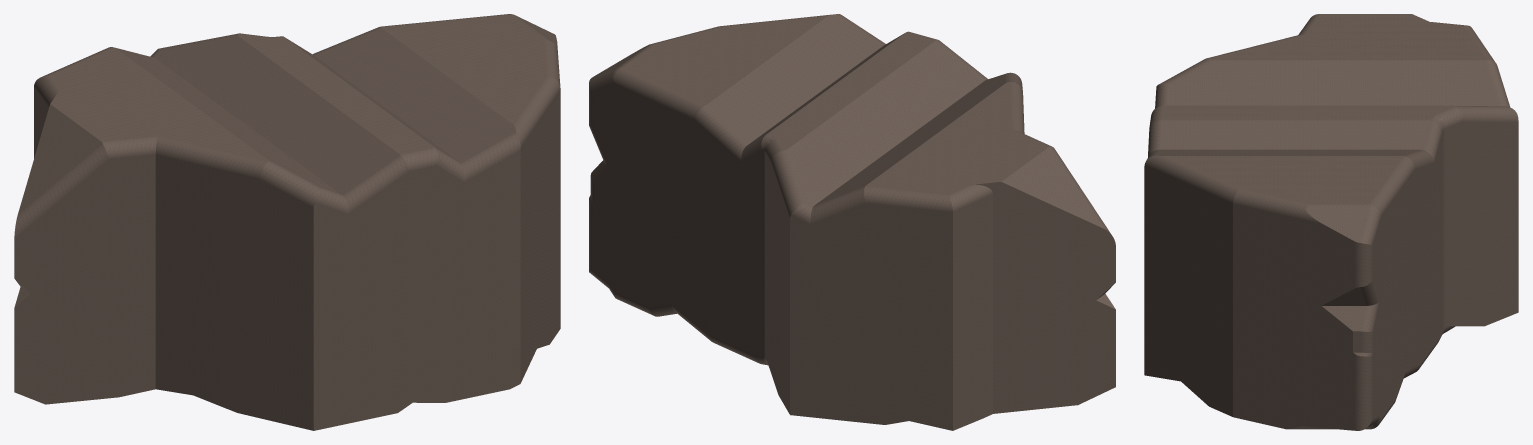
The model's file is ROCK.fbx.
The picture shows the model from 3 angles, left to right: view 1: azimuth 30°, elevation 25°; view 2: azimuth 150°, elevation 25°; view 3: azimuth 270°, elevation 25°; orthographic projection. The views are drawn at different scales.
Parts seen in each view (by area): view 1: cá»¥c ÄÃ¡ 1; view 2: cá»¥c ÄÃ¡ 1; view 3: cá»¥c ÄÃ¡ 1.
Part boxes in pixels (<box>): cá»¥c ÄÃ¡ 1: <box>14,14,560,430</box>; cá»¥c ÄÃ¡ 1: <box>589,14,1115,430</box>; cá»¥c ÄÃ¡ 1: <box>1144,14,1518,430</box>.
Size of the model in its own units: 139 by 60 by 90.61.
1 material, 1 textured.
